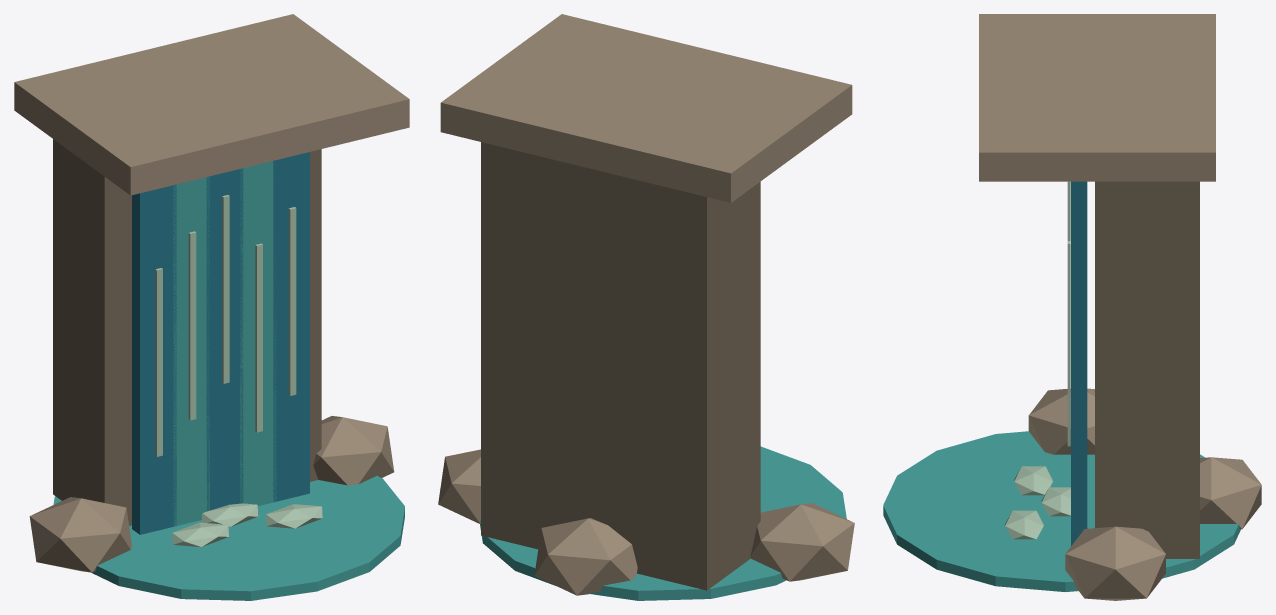
File: Tropical_WaterfallCascade_Standard.glb
3 renders of one model, left to right at view 1: azimuth 30°, elevation 25°; view 2: azimuth 150°, elevation 25°; view 3: azimuth 270°, elevation 25°, orthographic. The views are drawn at different scales.
Visible parts, largest first — view 1: Tropical_WaterfallCascade_Standard; view 2: Tropical_WaterfallCascade_Standard; view 3: Tropical_WaterfallCascade_Standard.
Part boxes in pixels (box(x1,y1,x2,y2)): Tropical_WaterfallCascade_Standard: box(14, 14, 409, 600); Tropical_WaterfallCascade_Standard: box(438, 14, 854, 600); Tropical_WaterfallCascade_Standard: box(883, 14, 1261, 600).
Size of the model in its own units: 4.76 by 5.43 by 4.15.
